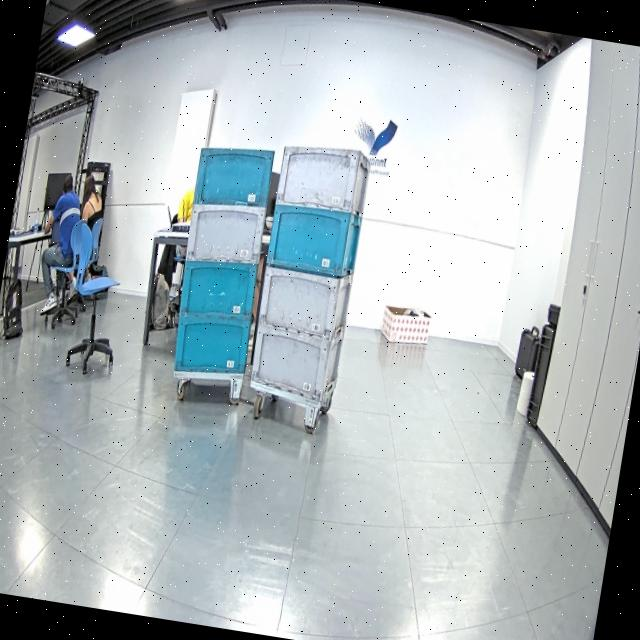Box4G: (244, 316, 348, 408), (252, 258, 354, 344), (268, 134, 371, 219), (182, 194, 268, 277)
BoxB4: (262, 202, 364, 282), (168, 304, 258, 386), (192, 140, 282, 220), (176, 249, 265, 328)
